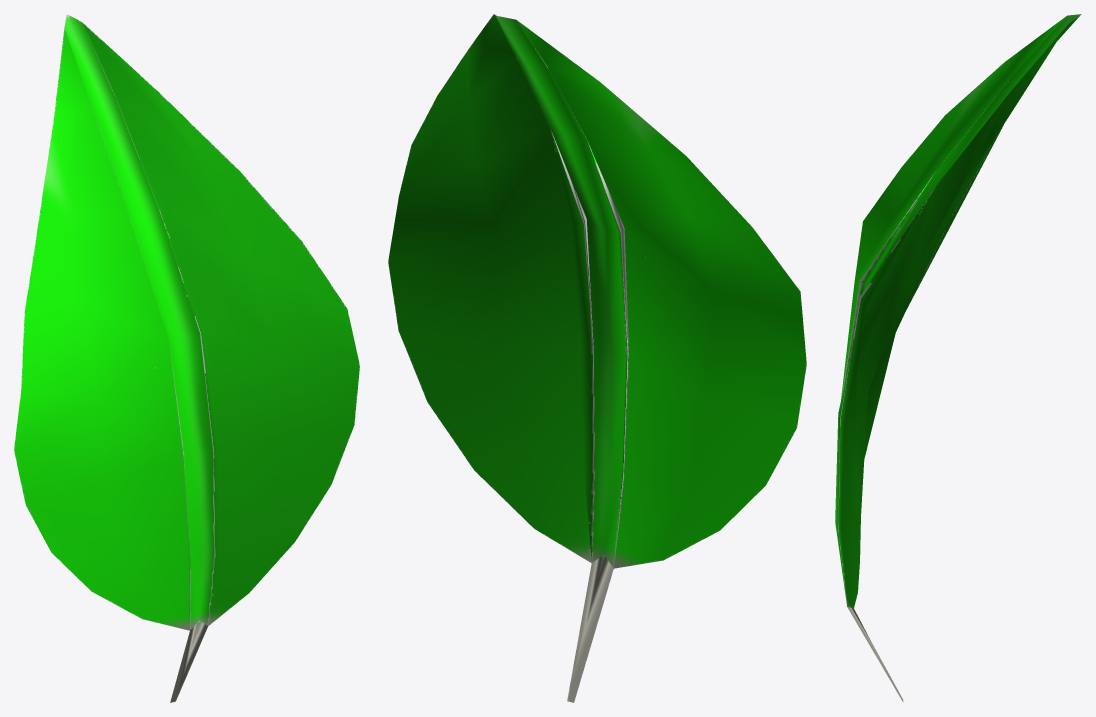
File: mongodb.glb
3 views of the same model, side by side, from view 1: azimuth 30°, elevation 25°; view 2: azimuth 150°, elevation 25°; view 3: azimuth 270°, elevation 25° (orthographic). The views are drawn at different scales.
Parts seen in each view (by area): view 1: leaf; view 2: leaf; view 3: leaf.
Part boxes in pixels (x1=…): leaf: x1=14, y1=14, x2=359, y2=702; leaf: x1=388, y1=14, x2=806, y2=702; leaf: x1=835, y1=14, x2=1081, y2=702.
Size of the model in its own units: 0.3153 by 0.5515 by 0.1825.
Materials: 1 (1 with a texture image).
